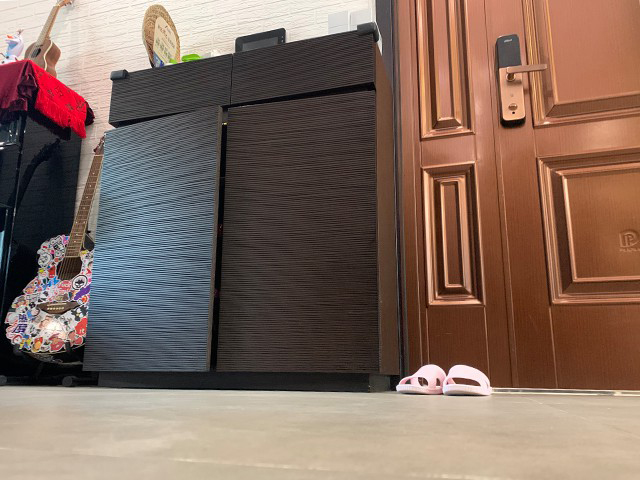cabinet: (80, 23, 404, 394)
slippers: (440, 365, 497, 397), (395, 363, 446, 395)
